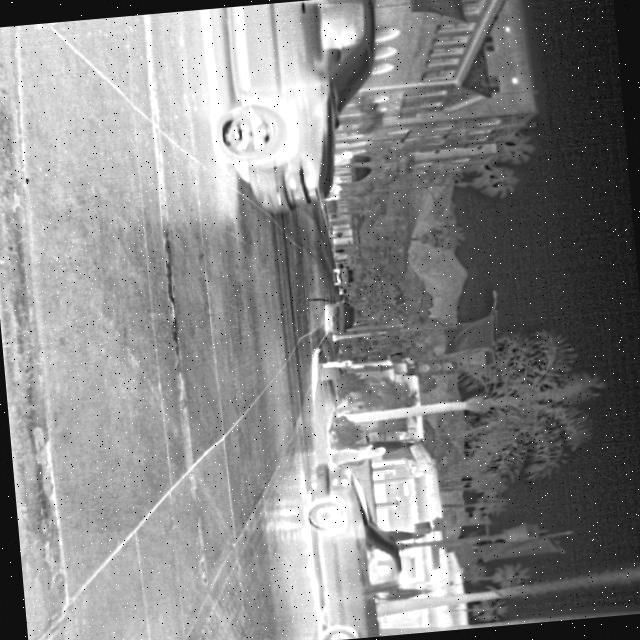Pedestrian: (322, 440, 388, 468)
Vehicle: (198, 0, 399, 220), (294, 455, 409, 640), (317, 298, 358, 338)
